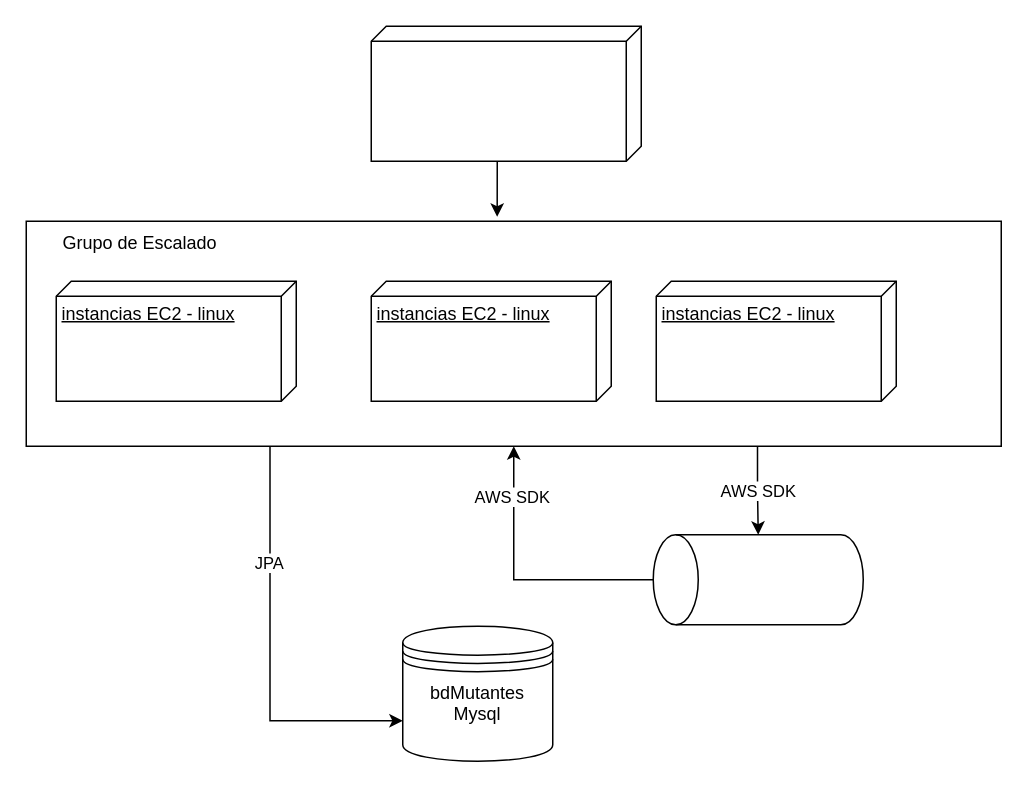
Image size: 1028x795. Some labels were removed from this diagram. Here are the shapes that lost their labels. From the top down, the box of each, then its label:
(370, 25, 641, 161): Balanceador de carga
(652, 533, 863, 625): SQS
